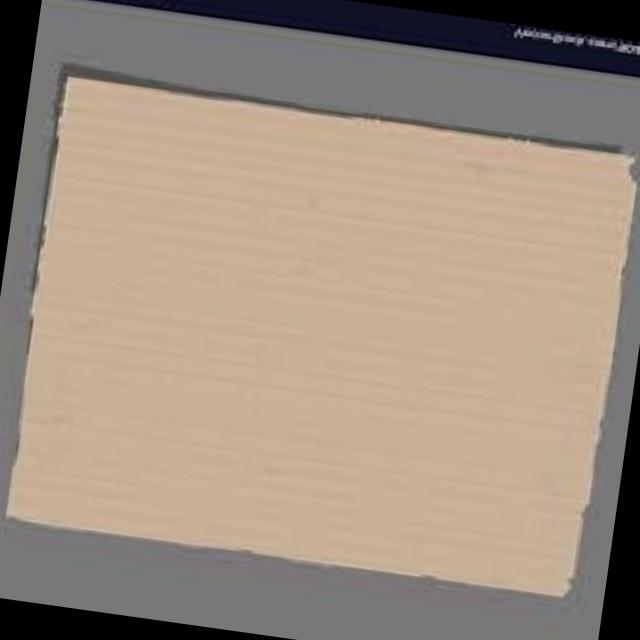cardboard paper: (8, 79, 632, 596)
